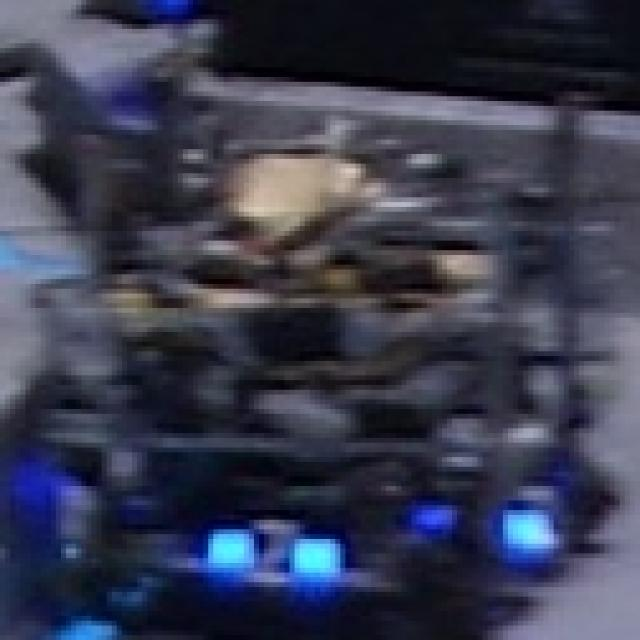B2: (198, 510, 351, 602)
